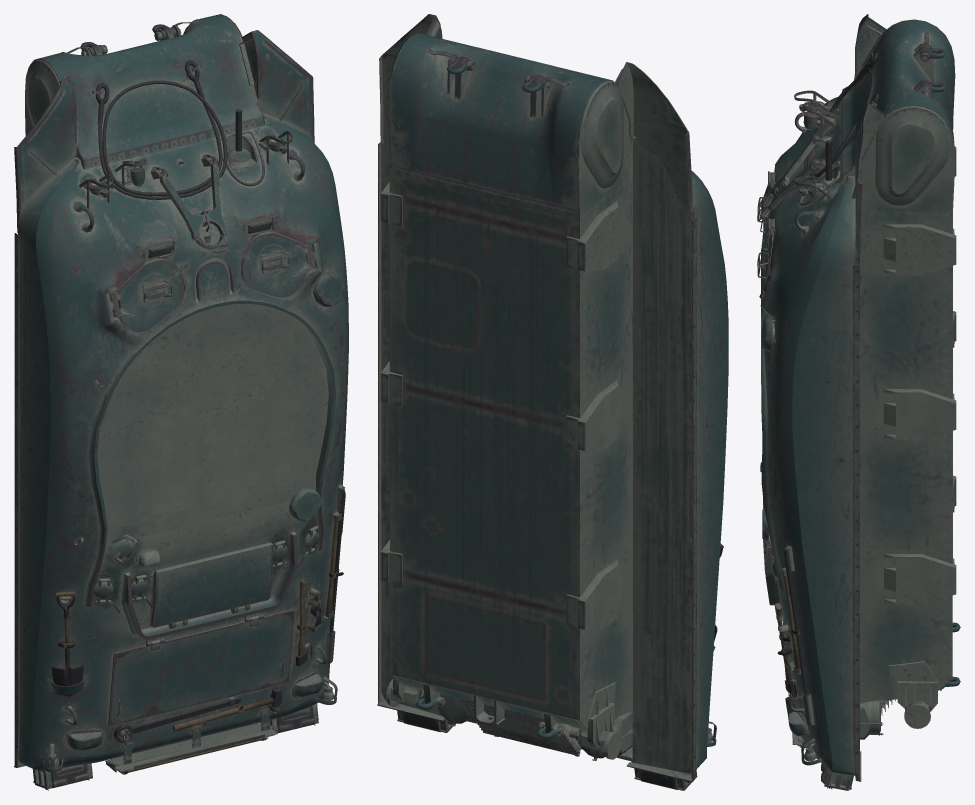
Rendered from Hull.glb.
The picture shows the model from 3 angles, left to right: view 1: azimuth 30°, elevation 25°; view 2: azimuth 150°, elevation 25°; view 3: azimuth 270°, elevation 25°; orthographic projection. The views are drawn at different scales.
Visible parts, largest first — view 1: set_0_group_0; view 2: set_0_group_0; view 3: set_0_group_0.
Boxes of the visible parts, x1,y1,x2,y2 form: set_0_group_0: (14, 14, 348, 790); set_0_group_0: (377, 14, 728, 790); set_0_group_0: (757, 14, 960, 790).
Size of the model in its own units: 2.66 by 5.86 by 1.62.
Materials: 1 (1 with a texture image).
